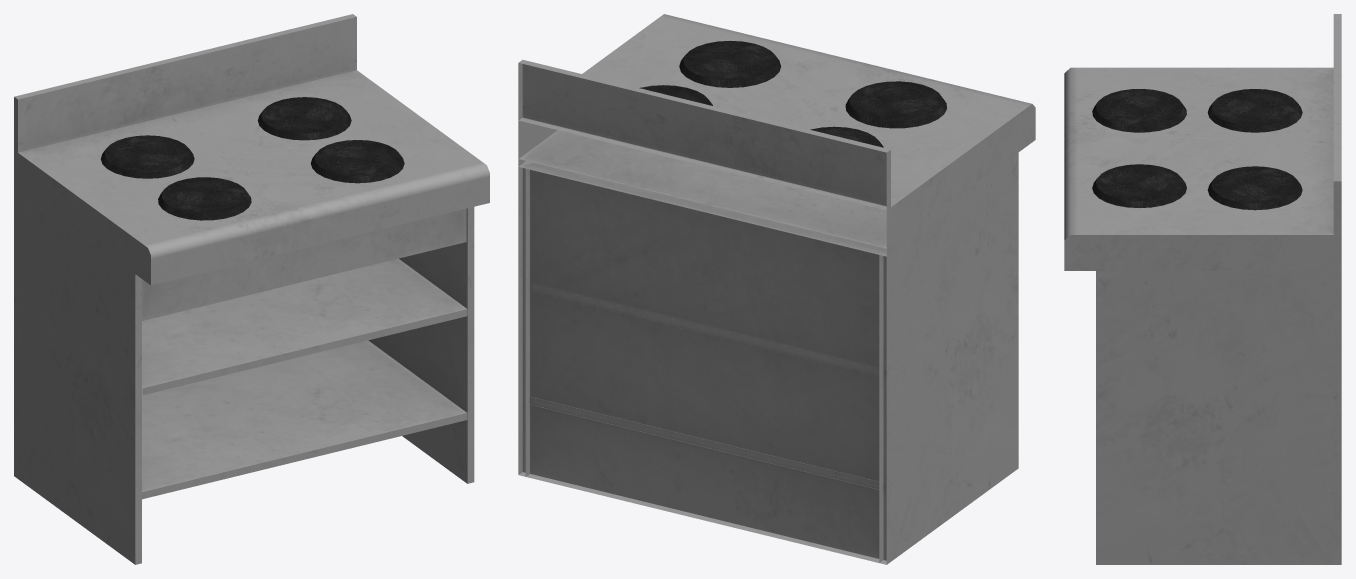
File: KitchenCabinet_C.FBX
3 renders of one model, left to right at view 1: azimuth 30°, elevation 25°; view 2: azimuth 150°, elevation 25°; view 3: azimuth 270°, elevation 25°, orthographic. The views are drawn at different scales.
Parts seen in each view (by area): view 1: KitchenCabinet_C; view 2: KitchenCabinet_C; view 3: KitchenCabinet_C.
Part boxes in pixels (box(x1,y1,x2,y2)): KitchenCabinet_C: box(14, 14, 489, 564); KitchenCabinet_C: box(518, 14, 1035, 564); KitchenCabinet_C: box(1064, 14, 1341, 564).
Size of the model in its own units: 100 by 107 by 70.
